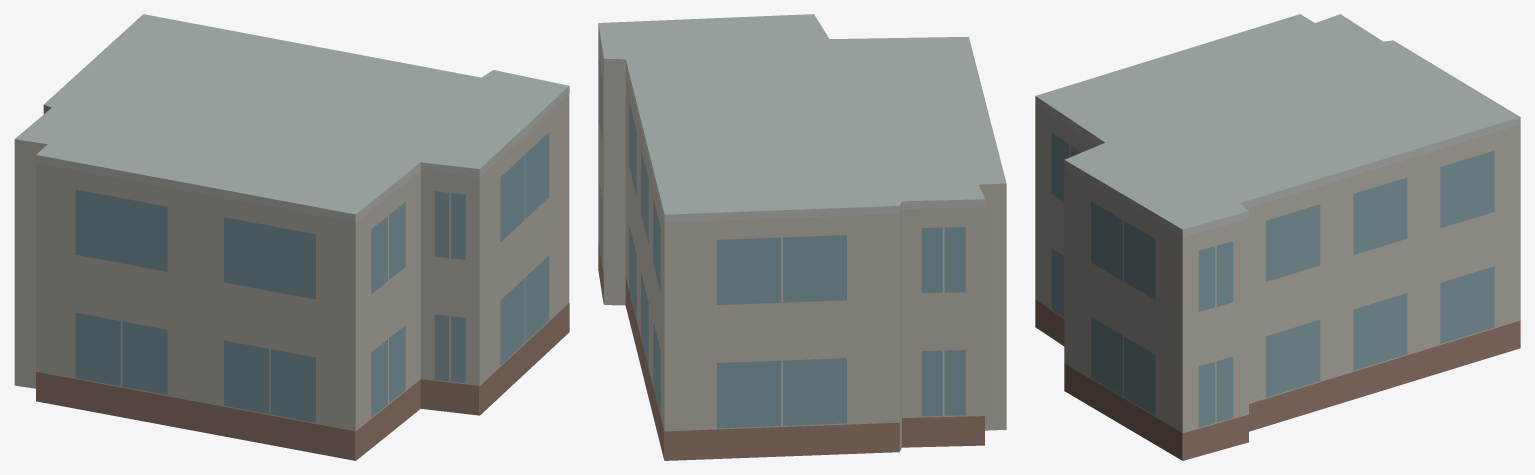
The model's file is survey-upis-32500379.glb.
3 views of the same model, side by side, from view 1: azimuth 30°, elevation 25°; view 2: azimuth 150°, elevation 25°; view 3: azimuth 270°, elevation 25° (orthographic). The views are drawn at different scales.
Parts seen in each view (by area): view 1: survey-upis-32500379.tmp; view 2: survey-upis-32500379.tmp; view 3: survey-upis-32500379.tmp.
Boxes of the visible parts, box(x1,y1,x2,y2) form: survey-upis-32500379.tmp: box(14, 14, 569, 460); survey-upis-32500379.tmp: box(598, 14, 1006, 460); survey-upis-32500379.tmp: box(1035, 14, 1520, 460).
Size of the model in its own units: 15.01 by 7.5 by 14.27.
